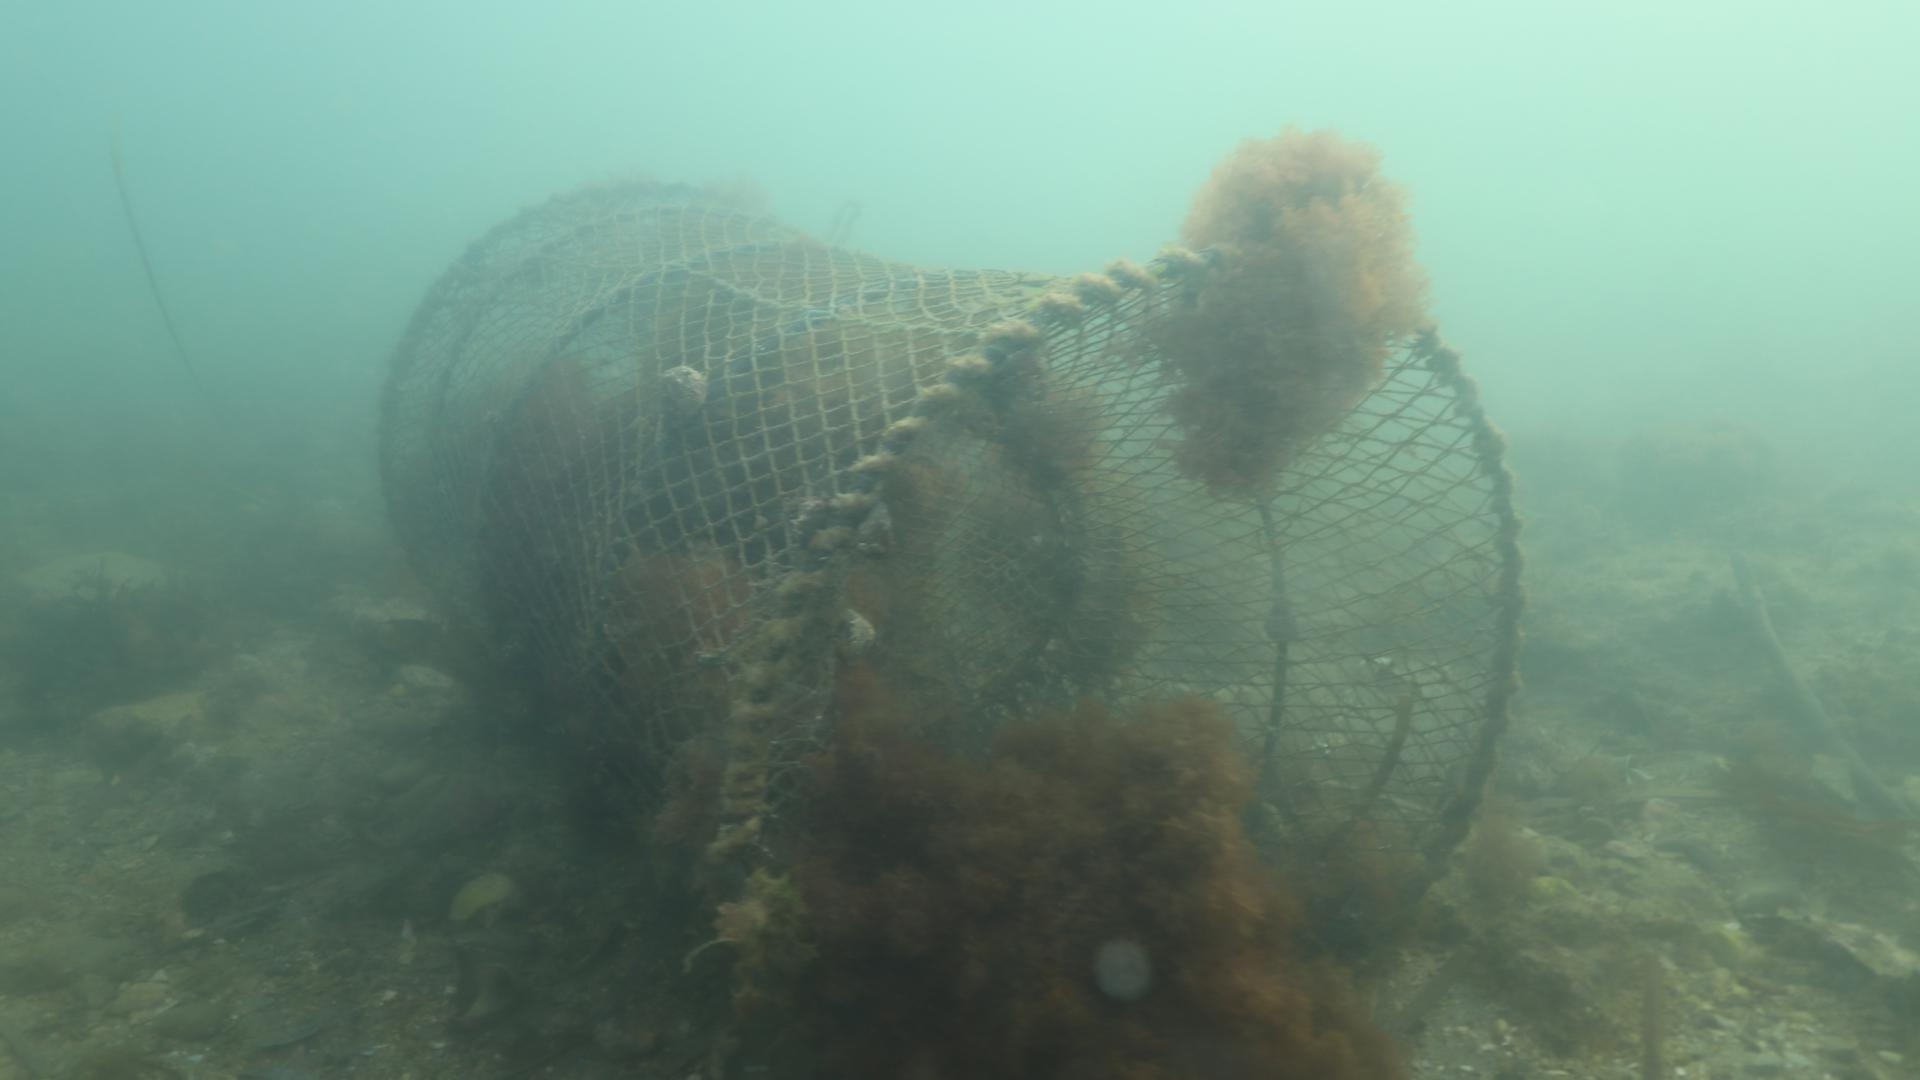spring fish trap: (376, 173, 1528, 1080)
